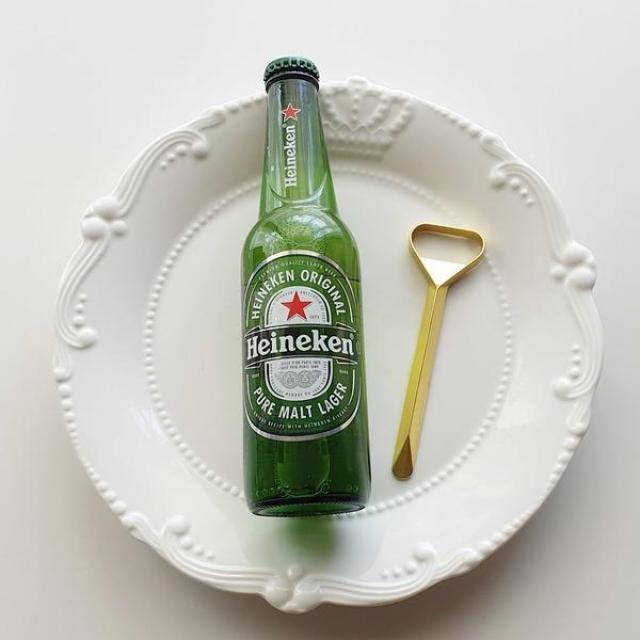beer-bottle: (226, 48, 388, 525)
